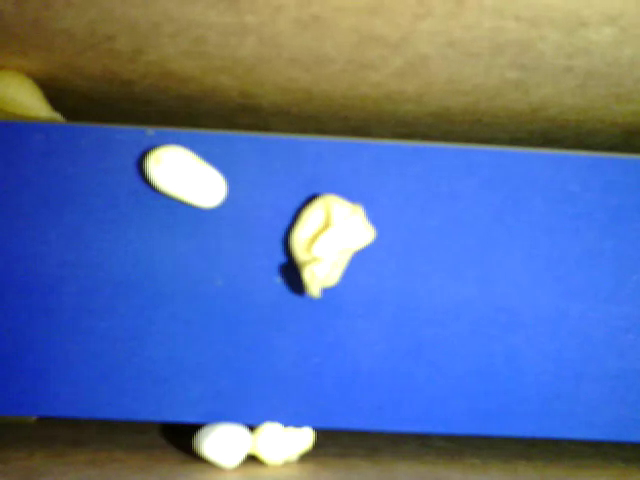shell: (1, 68, 67, 124)
tortellini: (283, 190, 381, 300)
